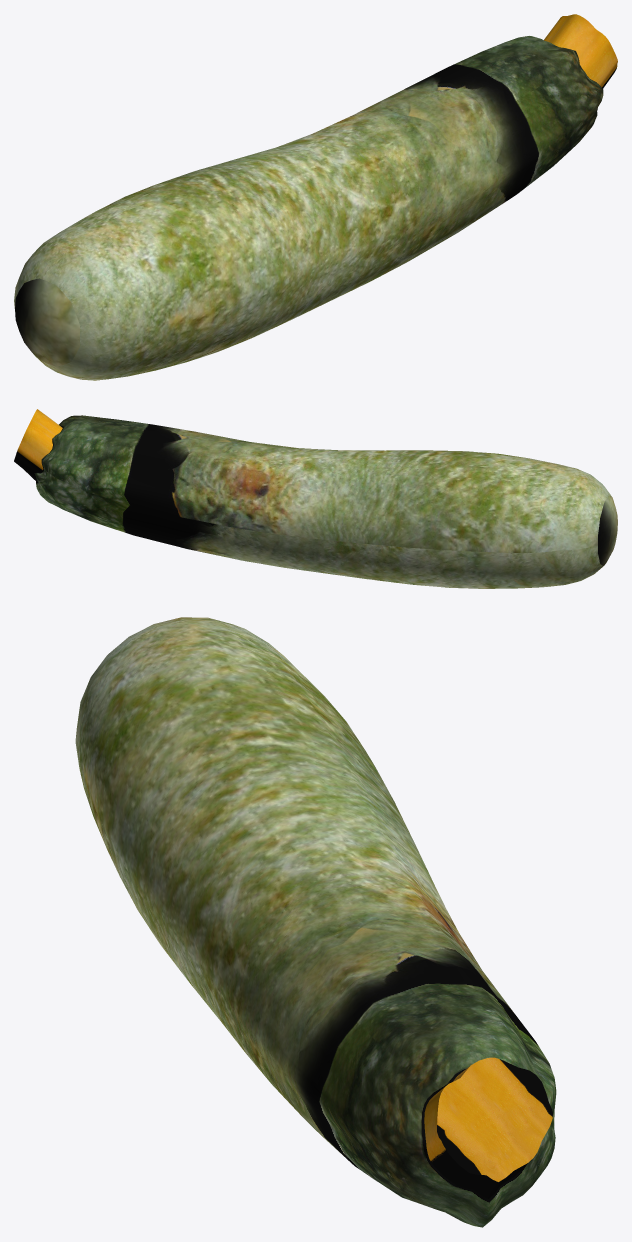
File: cucurbita.fbx
The picture shows the model from 3 angles, top to bottom: view 1: azimuth 30°, elevation 25°; view 2: azimuth 150°, elevation 25°; view 3: azimuth 270°, elevation 25°; orthographic projection. The views are drawn at different scales.
Visible parts, largest first — view 1: Model_115_Courgette_03; view 2: Model_115_Courgette_03; view 3: Model_115_Courgette_03.
Part boxes in pixels (bbox=[...]): Model_115_Courgette_03: bbox=[14, 14, 617, 380]; Model_115_Courgette_03: bbox=[14, 409, 617, 588]; Model_115_Courgette_03: bbox=[75, 617, 556, 1227].
Bounding box in the file's own units: 10.17 × 2.38 × 4.07.
